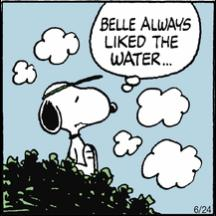snoopy: (38, 74, 119, 180)
